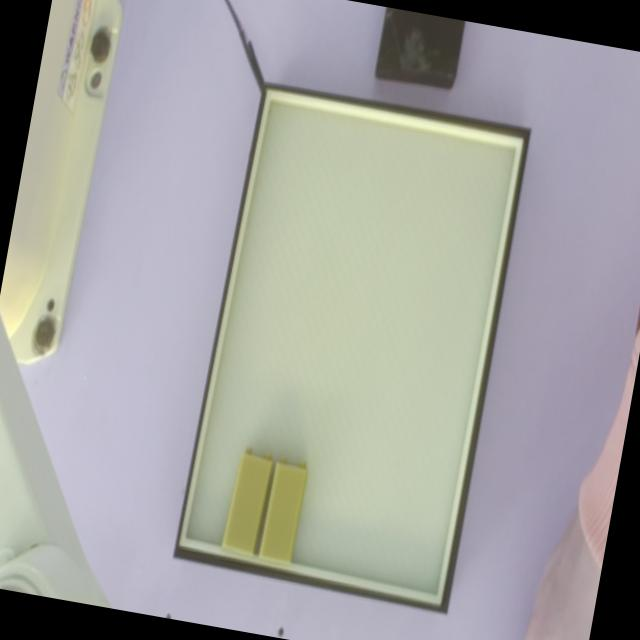bateria: (258, 456, 308, 563), (223, 448, 273, 555)
mesa: (172, 81, 531, 613)
